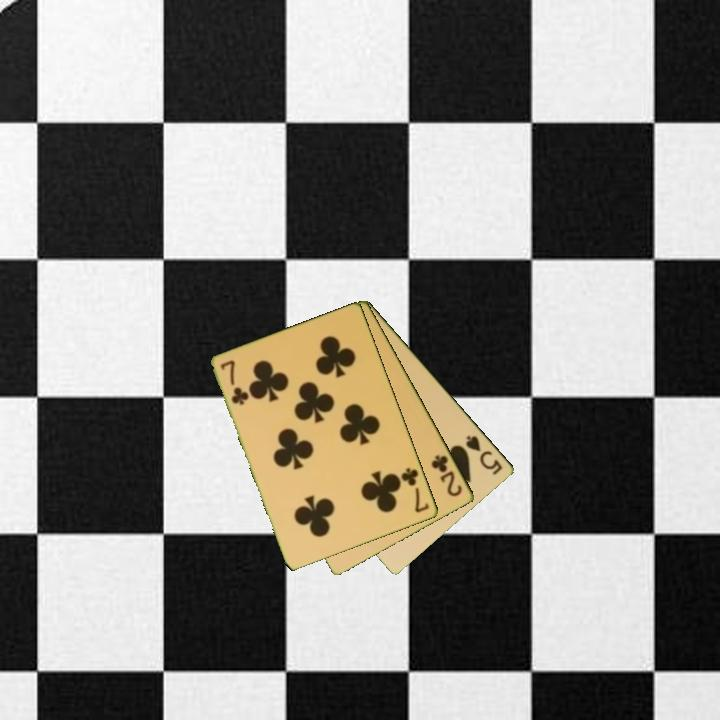2c: (428, 451, 466, 500)
5s: (463, 432, 506, 478)
7c: (398, 464, 432, 516), (217, 356, 251, 408)
